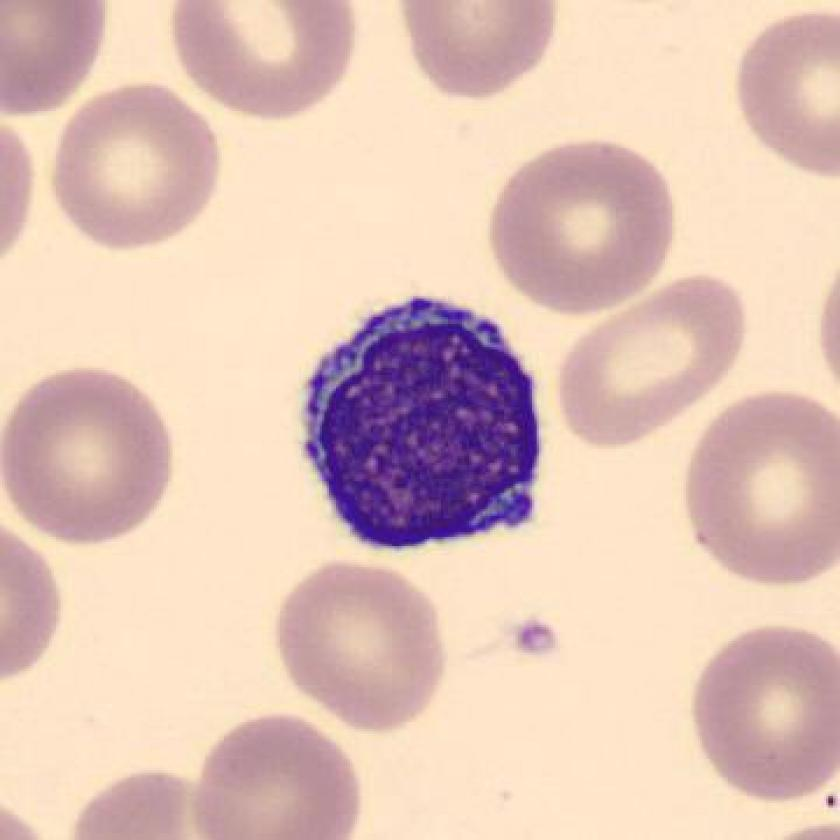lymphocyte: (288, 279, 556, 575)
